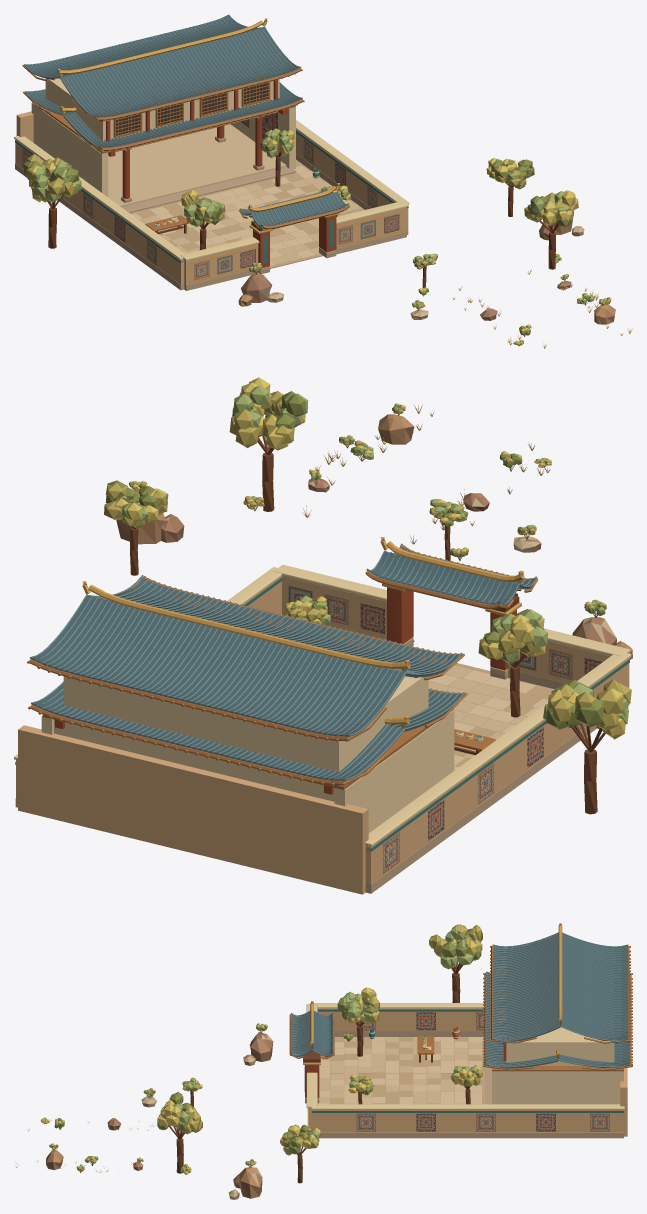
The model's file is courtyard.glb.
3 renders of one model, top to bottom at view 1: azimuth 30°, elevation 25°; view 2: azimuth 150°, elevation 25°; view 3: azimuth 270°, elevation 25°, orthographic. The views are drawn at different scales.
Visible parts, largest first — view 1: hall-upper-roof, hall-platform, courtyard-paving, hall-lower-roof, hall-side-wall, entrance-roof, courtyard-side-wall, window-decoration, tree-court-outer-west-canopy, upper-floor, courtyard-ground, courtyard-side-wall-001 (+15 smaller); view 2: hall-upper-roof, courtyard-rear-wall, upper-floor, hall-lower-roof, hall-side-wall, entrance-roof, courtyard-side-wall, courtyard-paving, tree-road-east-canopy, hall-back-wall, tree-court-outer-west-canopy, courtyard-wall-coping (+19 smaller); view 3: hall-upper-roof, courtyard-paving, courtyard-side-wall-001, hall-side-wall-001, hall-lower-roof, upper-floor, courtyard-side-wall, courtyard-wall-plinth-001, entrance-roof, courtyard-wall-coping-001, tree-court-outer-west-canopy, courtyard-ground (+12 smaller).
Part boxes in pixels (x1=…): hall-upper-roof: x1=22, y1=14, x2=302, y2=120; hall-platform: x1=108, y1=124, x2=286, y2=206; courtyard-paving: x1=131, y1=160, x2=362, y2=265; hall-lower-roof: x1=23, y1=82, x2=304, y2=151; hall-side-wall: x1=31, y1=102, x2=108, y2=197; entrance-roof: x1=239, y1=183, x2=349, y2=229; courtyard-side-wall: x1=15, y1=140, x2=184, y2=289; window-decoration: x1=113, y1=82, x2=270, y2=138; tree-court-outer-west-canopy: x1=23, y1=154, x2=81, y2=202; upper-floor: x1=45, y1=78, x2=279, y2=141; courtyard-ground: x1=130, y1=159, x2=364, y2=268; courtyard-side-wall-001: x1=296, y1=130, x2=408, y2=229; hall-upper-roof: x1=27, y1=575, x2=464, y2=741; courtyard-rear-wall: x1=18, y1=725, x2=368, y2=894; upper-floor: x1=63, y1=676, x2=428, y2=771; hall-lower-roof: x1=28, y1=681, x2=467, y2=785; hall-side-wall: x1=334, y1=710, x2=454, y2=832; entrance-roof: x1=365, y1=537, x2=538, y2=609; courtyard-side-wall: x1=365, y1=658, x2=629, y2=892; courtyard-paving: x1=428, y1=665, x2=553, y2=770; tree-road-east-canopy: x1=229, y1=377, x2=308, y2=450; hall-back-wall: x1=54, y1=719, x2=334, y2=801; tree-court-outer-west-canopy: x1=543, y1=679, x2=631, y2=739; courtyard-wall-coping: x1=365, y1=653, x2=631, y2=846; hall-upper-roof: x1=490, y1=923, x2=630, y2=1043; courtyard-paving: x1=317, y1=1037, x2=484, y2=1104; courtyard-side-wall-001: x1=312, y1=1110, x2=623, y2=1132; hall-side-wall-001: x1=492, y1=1071, x2=623, y2=1104; hall-lower-roof: x1=483, y1=971, x2=632, y2=1070; upper-floor: x1=506, y1=1027, x2=614, y2=1065; courtyard-side-wall: x1=317, y1=1008, x2=484, y2=1031; courtyard-wall-plinth-001: x1=319, y1=1132, x2=623, y2=1138; entrance-roof: x1=289, y1=1001, x2=334, y2=1058; courtyard-wall-coping-001: x1=311, y1=1104, x2=624, y2=1109; tree-court-outer-west-canopy: x1=429, y1=924, x2=482, y2=969; courtyard-ground: x1=319, y1=1037, x2=484, y2=1104.
Bounding box in the file's own units: 39.52 × 10.63 × 51.6.
Materials: 28 (5 with a texture image).
